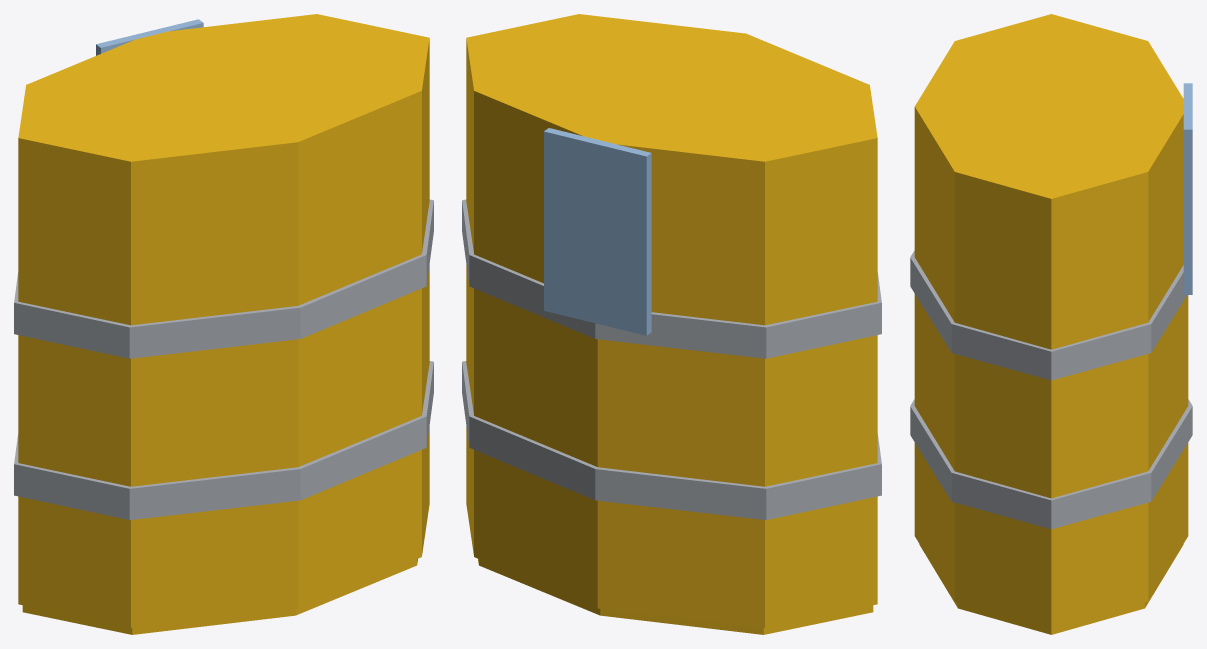
Rendered from cosmetic_coat_hi_vis_vest.glb.
3 views of the same model, side by side, from view 1: azimuth 30°, elevation 25°; view 2: azimuth 150°, elevation 25°; view 3: azimuth 270°, elevation 25° (orthographic). The views are drawn at different scales.
Parts seen in each view (by area): view 1: cosmetic_coat_hi_vis_vest; view 2: cosmetic_coat_hi_vis_vest; view 3: cosmetic_coat_hi_vis_vest.
Part boxes in pixels (x1,y1,x2,y2): cosmetic_coat_hi_vis_vest: (14, 14, 433, 634); cosmetic_coat_hi_vis_vest: (462, 14, 881, 634); cosmetic_coat_hi_vis_vest: (910, 14, 1192, 634).
Bounding box in the file's own units: 0.49 × 0.53 × 0.31.
Materials: 1 (1 with a texture image).
